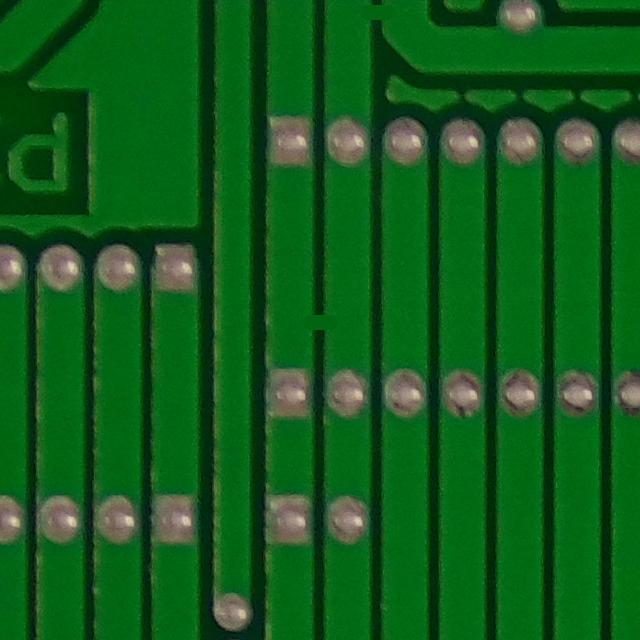short: (280, 282, 361, 358)
